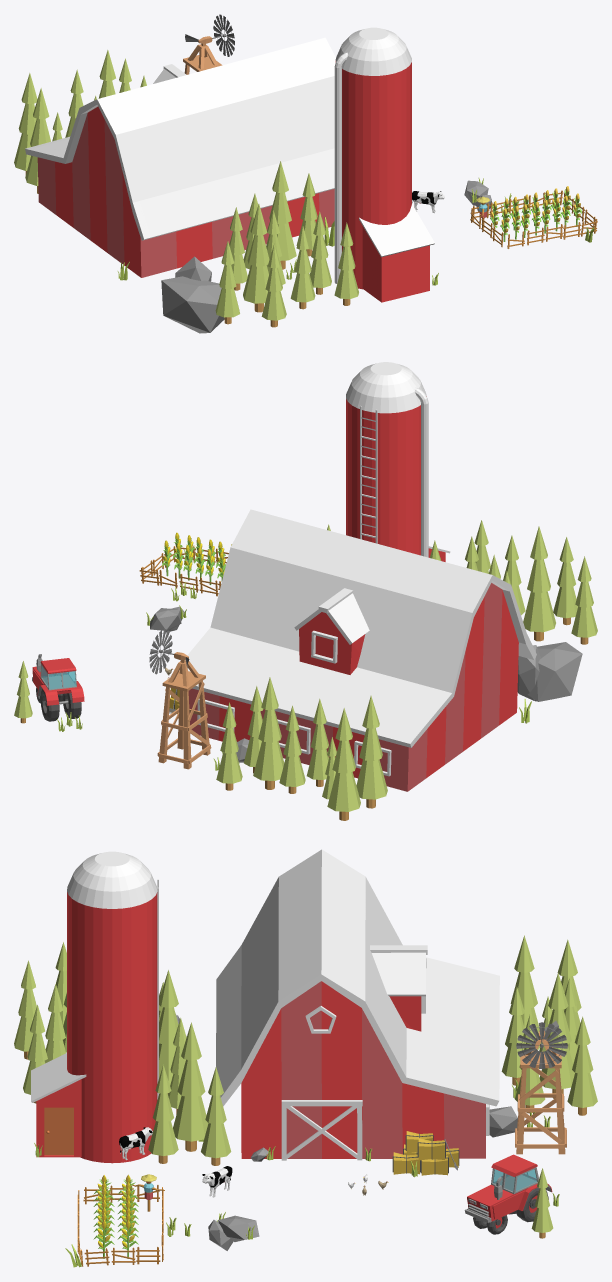
Rendered from farm.glb.
The picture shows the model from 3 angles, top to bottom: view 1: azimuth 30°, elevation 25°; view 2: azimuth 150°, elevation 25°; view 3: azimuth 270°, elevation 25°; orthographic projection. The views are drawn at different scales.
Visible parts, largest first — view 1: Object_10; view 2: Object_10; view 3: Object_10.
Part boxes in pixels (<box>): Object_10: <box>14,14,597,333</box>; Object_10: <box>14,362,597,820</box>; Object_10: <box>14,849,597,1267</box>.
Bounding box in the file's own units: 172 × 107 × 180.
